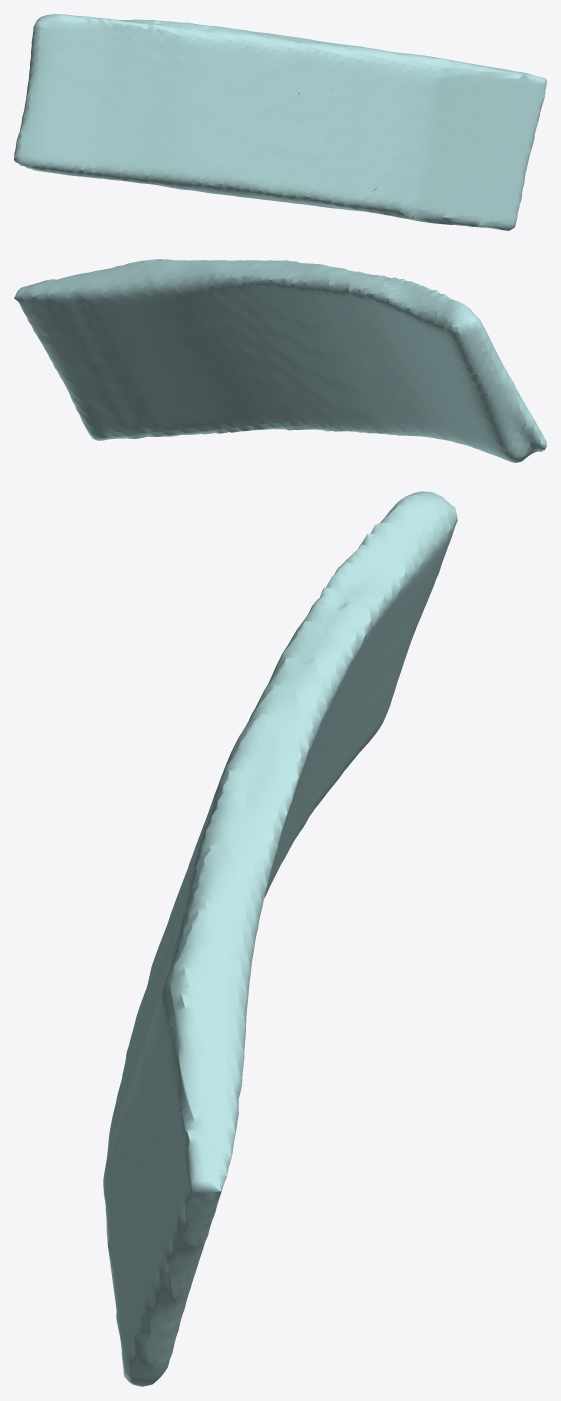
Rendered from bathroom-mirror.gltf.
The picture shows the model from 3 angles, top to bottom: view 1: azimuth 30°, elevation 25°; view 2: azimuth 150°, elevation 25°; view 3: azimuth 270°, elevation 25°; orthographic projection. The views are drawn at different scales.
Parts seen in each view (by area): view 1: Layer_5; view 2: Layer_5; view 3: Layer_5.
Part boxes in pixels (x1,y1,x2,y2): Layer_5: [14, 14, 546, 230]; Layer_5: [14, 259, 546, 462]; Layer_5: [103, 491, 457, 1386].
Bounding box in the file's own units: 91.87 × 45.81 × 28.46.
Materials: 1 (1 with a texture image).
